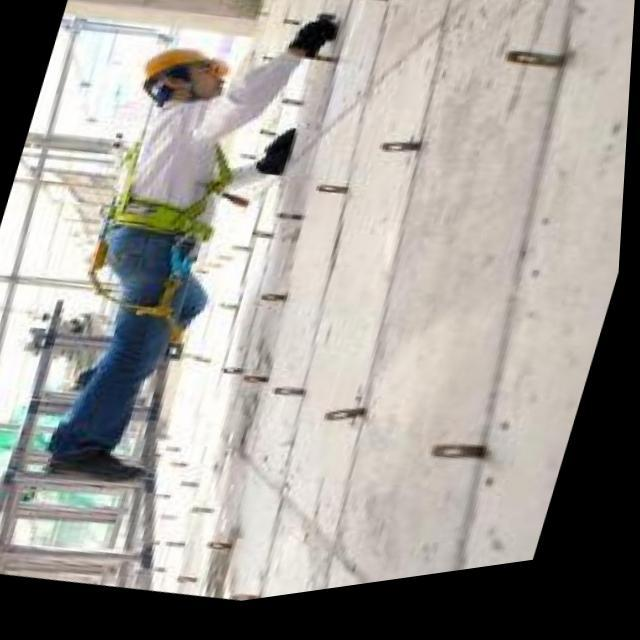belt: (95, 142, 238, 344)
